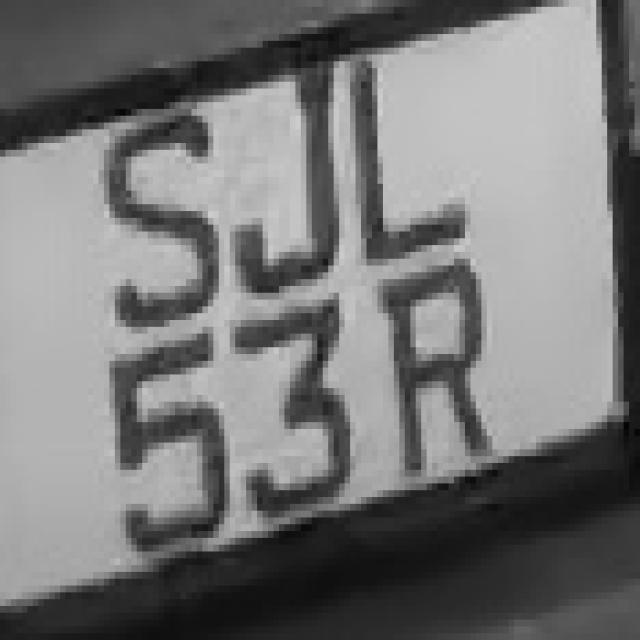3: (214, 293, 366, 504)
5: (71, 320, 230, 545)
J: (218, 34, 344, 300)
L: (334, 20, 476, 259)
R: (383, 238, 514, 497)
S: (66, 95, 240, 348)
